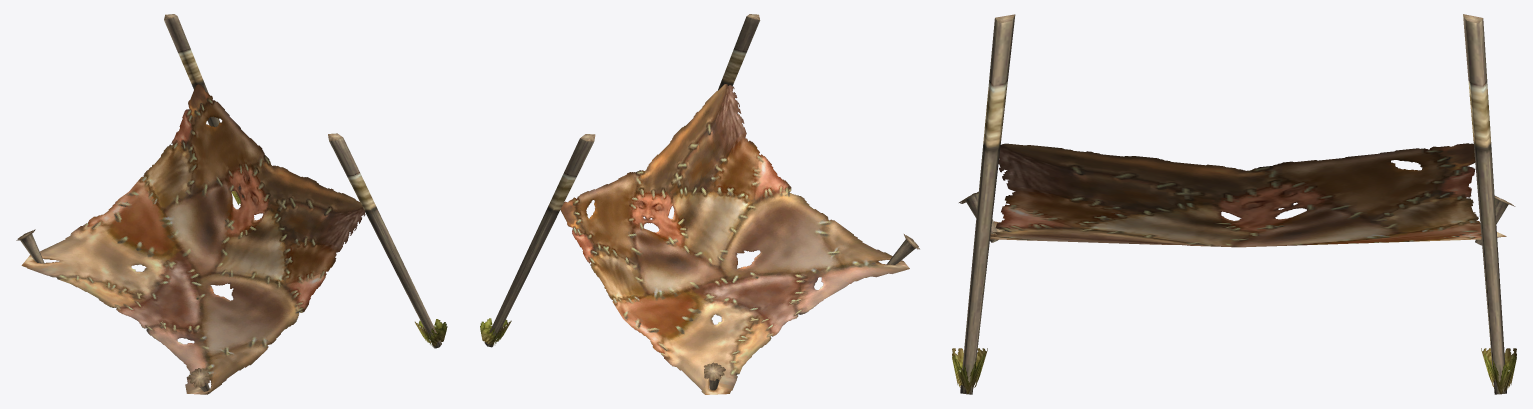
Rendered from gnolltent02.glb.
3 views of the same model, side by side, from view 1: azimuth 30°, elevation 25°; view 2: azimuth 150°, elevation 25°; view 3: azimuth 270°, elevation 25° (orthographic). The views are drawn at different scales.
Size of the model in its own units: 3.37 by 2.79 by 4.52.
Materials: 1 (1 with a texture image).
